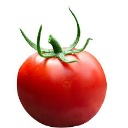tomato: (18, 48, 107, 128)
